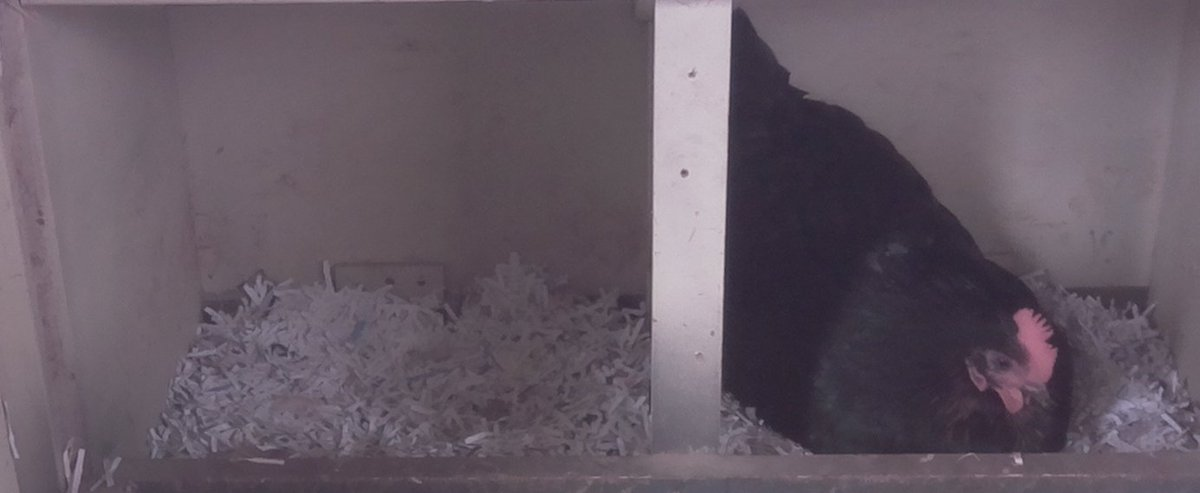hen: (733, 59, 1083, 452)
